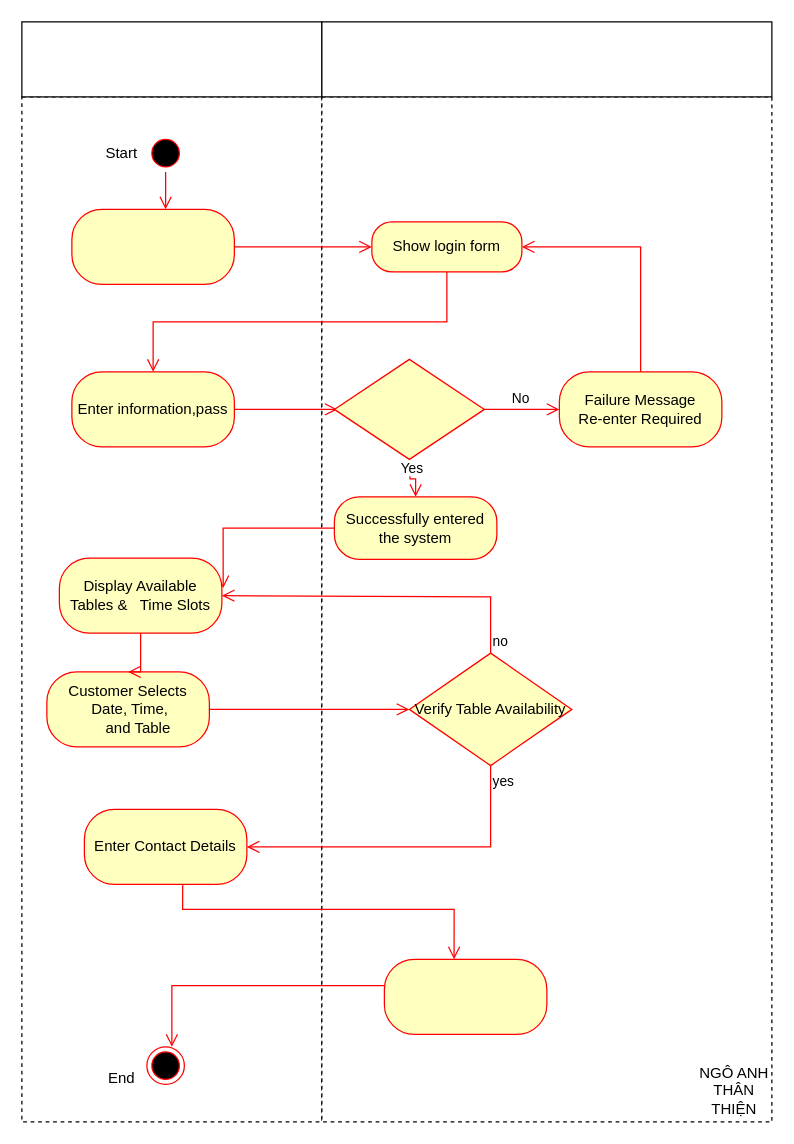
Some shapes in this 794 by 1144 pixel diagram are drawn without their labels. The centre of each missing label's shape, as x and y in pixels:
"Customers" goes at (171,59).
"login" goes at (152,246).
"Process Reservation & Send Confirmation Notification" goes at (465,996).
"System" goes at (546,59).
"Validity check" goes at (408,408).
